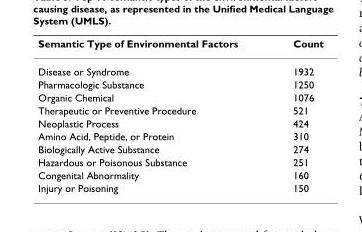table: (37, 36, 322, 193)
table column: (37, 36, 264, 193), (264, 36, 322, 193)
table column header: (37, 36, 322, 57)
table row: (37, 36, 322, 57), (37, 57, 322, 77), (37, 77, 322, 90), (37, 90, 322, 103), (37, 103, 322, 116), (37, 116, 322, 129), (37, 129, 322, 142), (37, 142, 322, 155), (37, 155, 322, 168), (37, 168, 322, 181), (37, 181, 322, 193)
